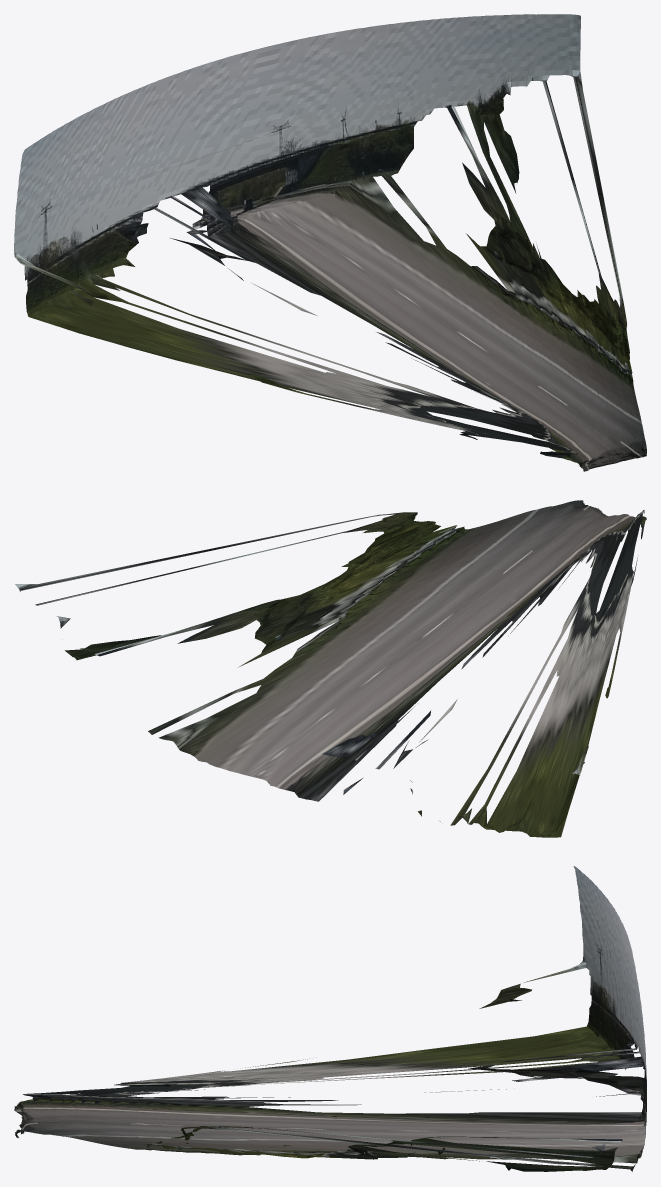
The picture shows the model from 3 angles, top to bottom: view 1: azimuth 30°, elevation 25°; view 2: azimuth 150°, elevation 25°; view 3: azimuth 270°, elevation 25°; orthographic projection. The views are drawn at different scales.
Parts seen in each view (by area): view 1: defaultobject; view 2: defaultobject; view 3: defaultobject.
Boxes of the visible parts, x1=… form: defaultobject: x1=14, y1=14, x2=646, y2=471; defaultobject: x1=15, y1=500, x2=646, y2=837; defaultobject: x1=14, y1=866, x2=646, y2=1171.
Size of the model in its own units: 41.05 by 13.18 by 44.64.
1 material, 1 textured.
